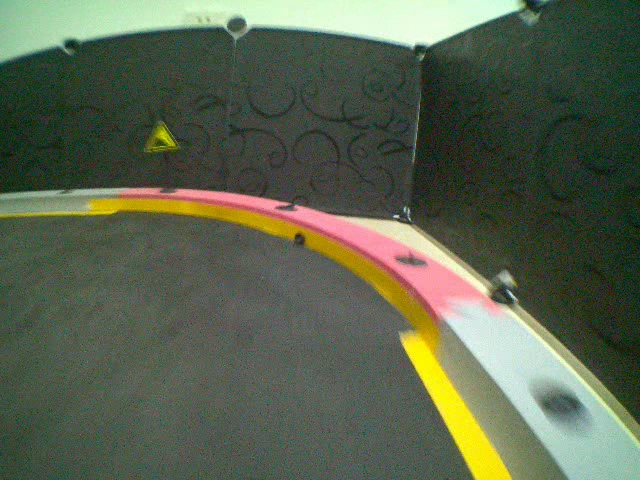fast: (139, 118, 181, 153)
